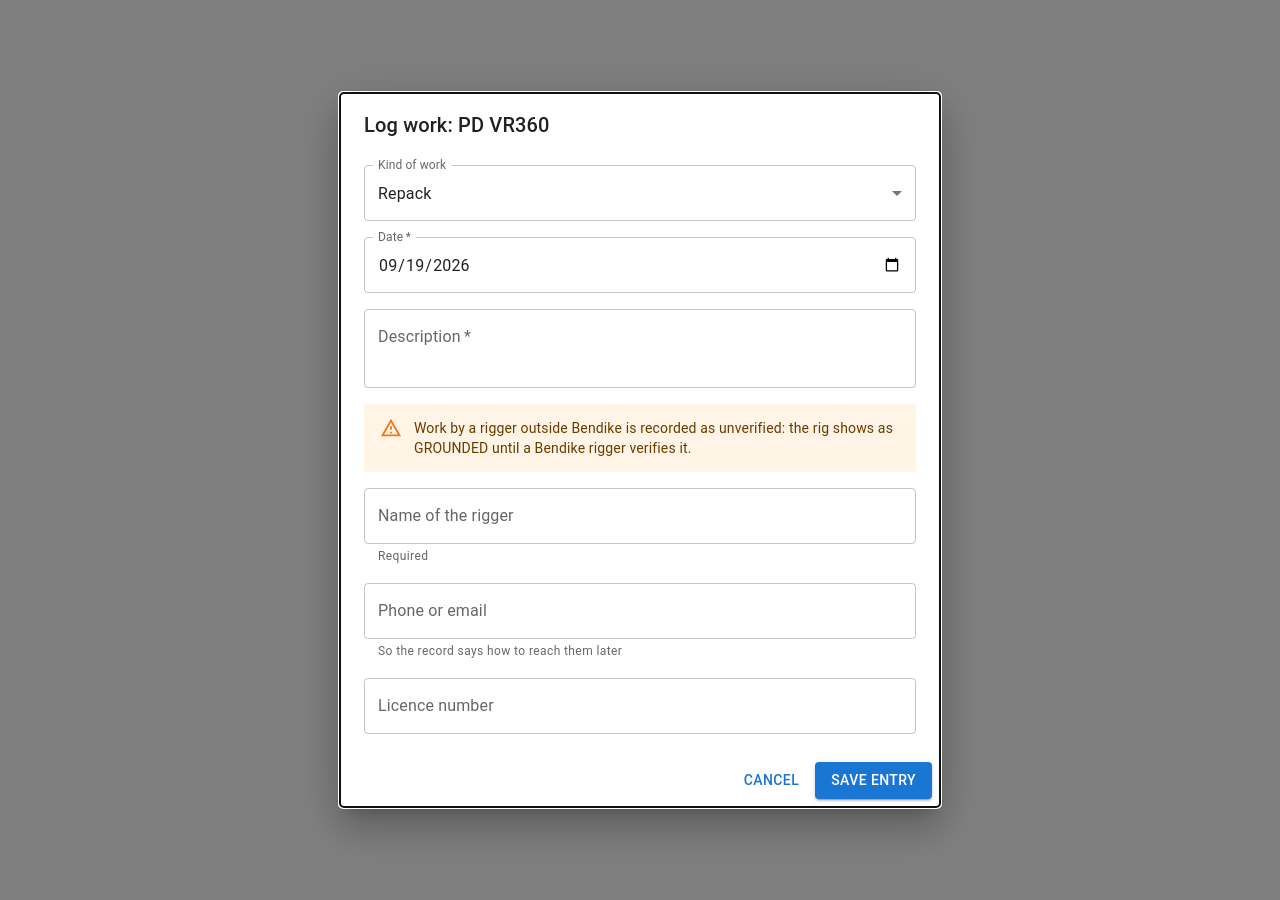
Test: EntryDialog for an owner › an owner is not offered inspections
Click the dropdown named "Kind of work". click: x=405, y=193
box: [378,184,431,203]
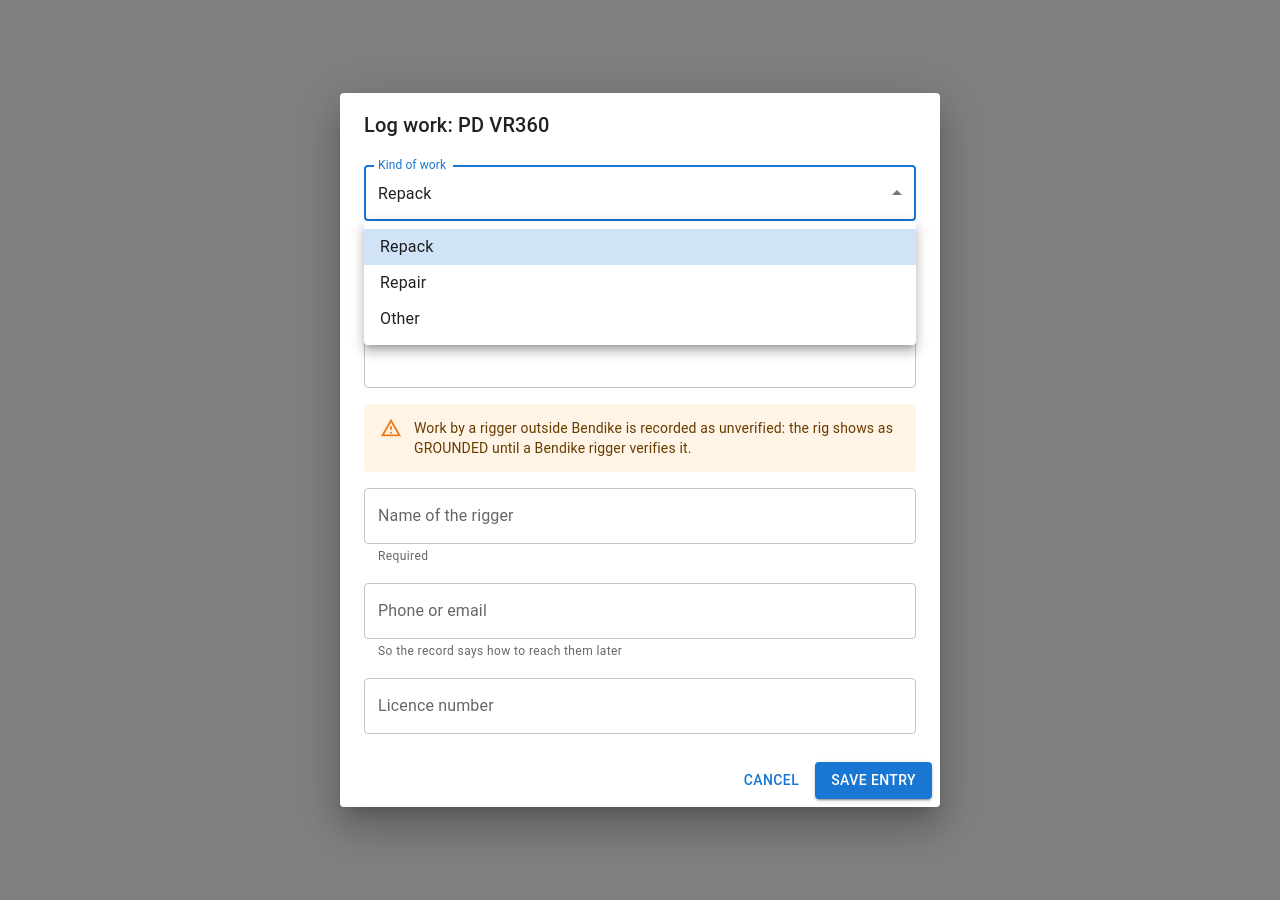
Now the option "Repack" is shown, box [364,229,916,265]
